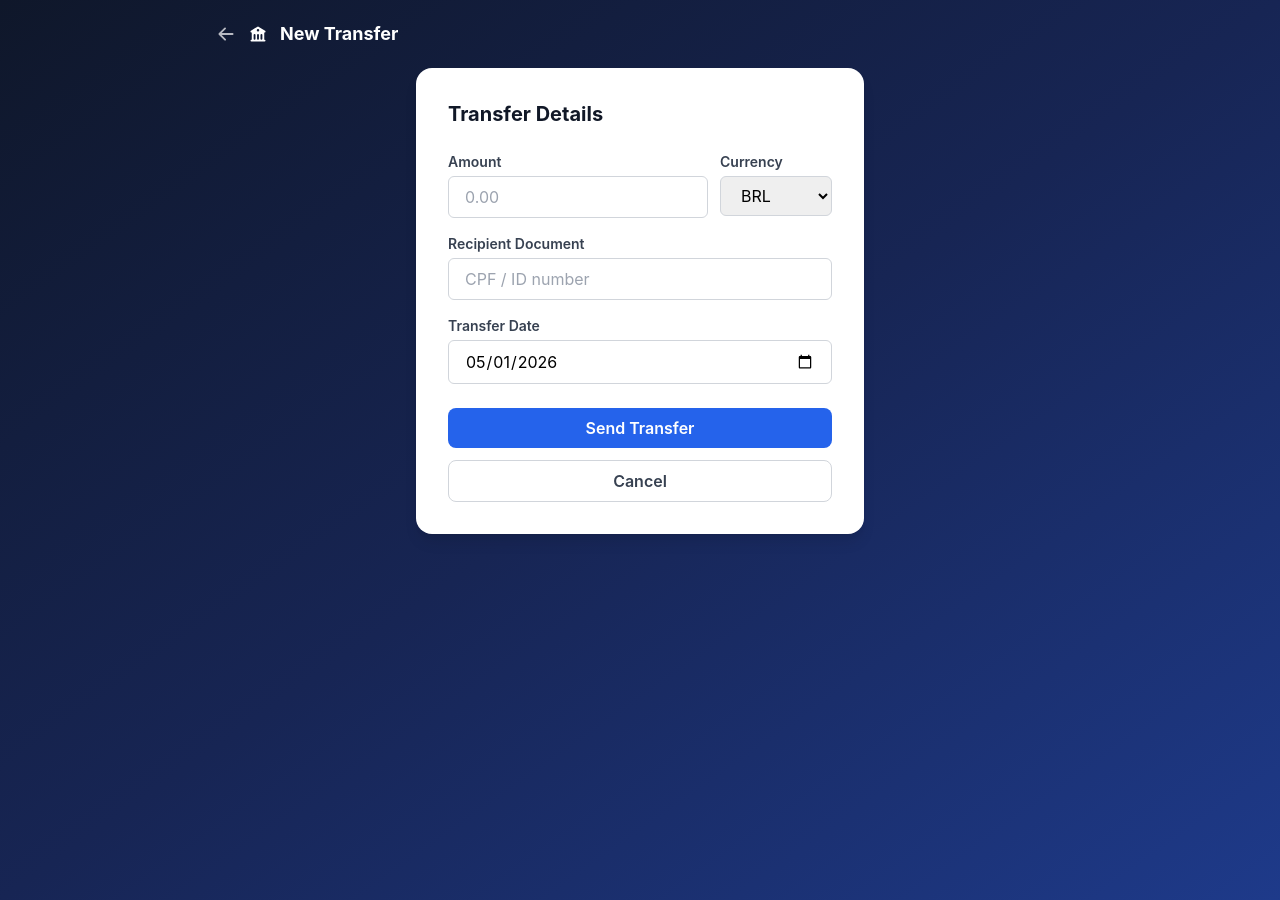
it: NewTransferPage › shows validation error when document is empty
Type "100" into the number field labelled "Amount" at (578, 197), box top-left (448, 176), bottom-right (708, 218)
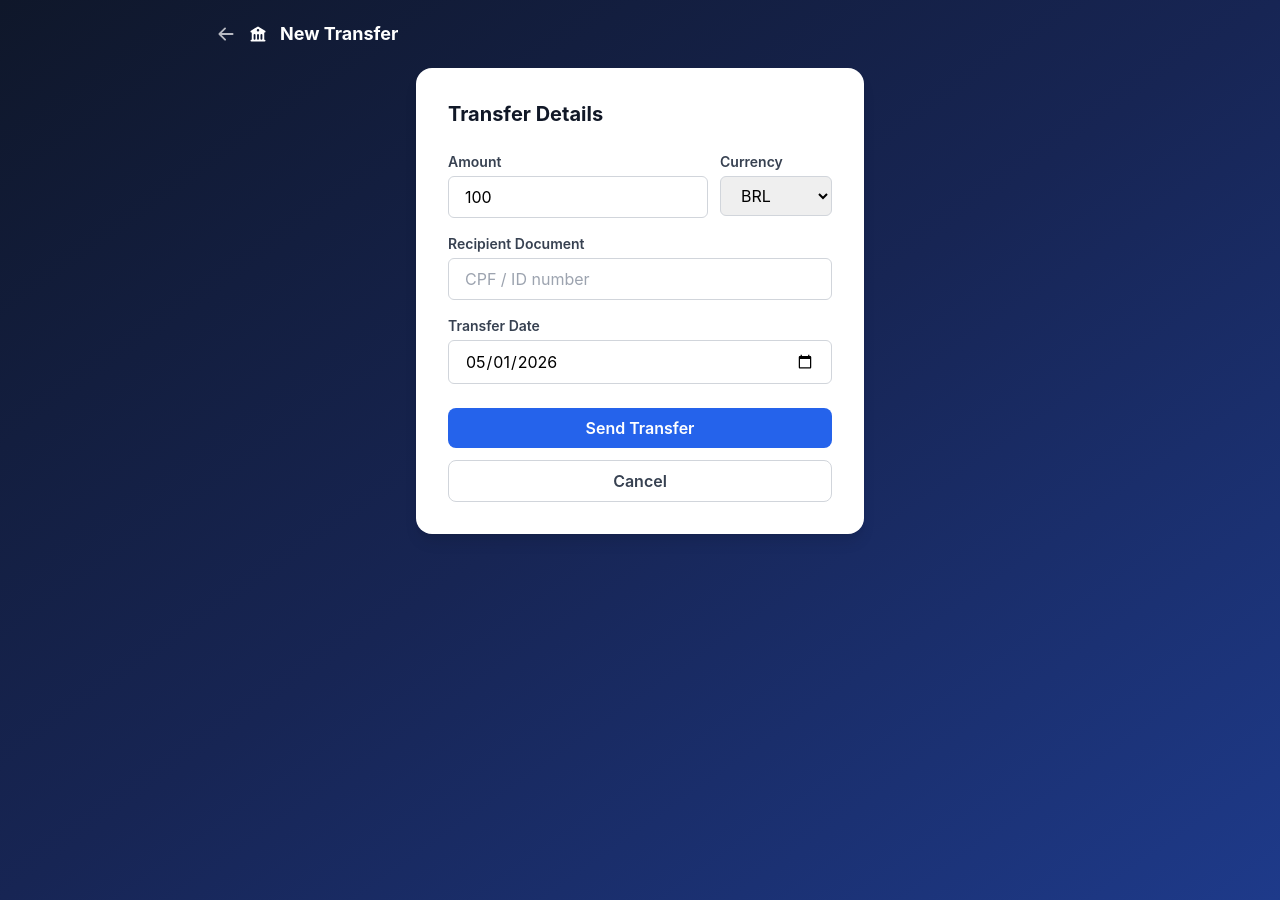
Click the button "Send Transfer" at (640, 428), box top-left (448, 408), bottom-right (832, 448)
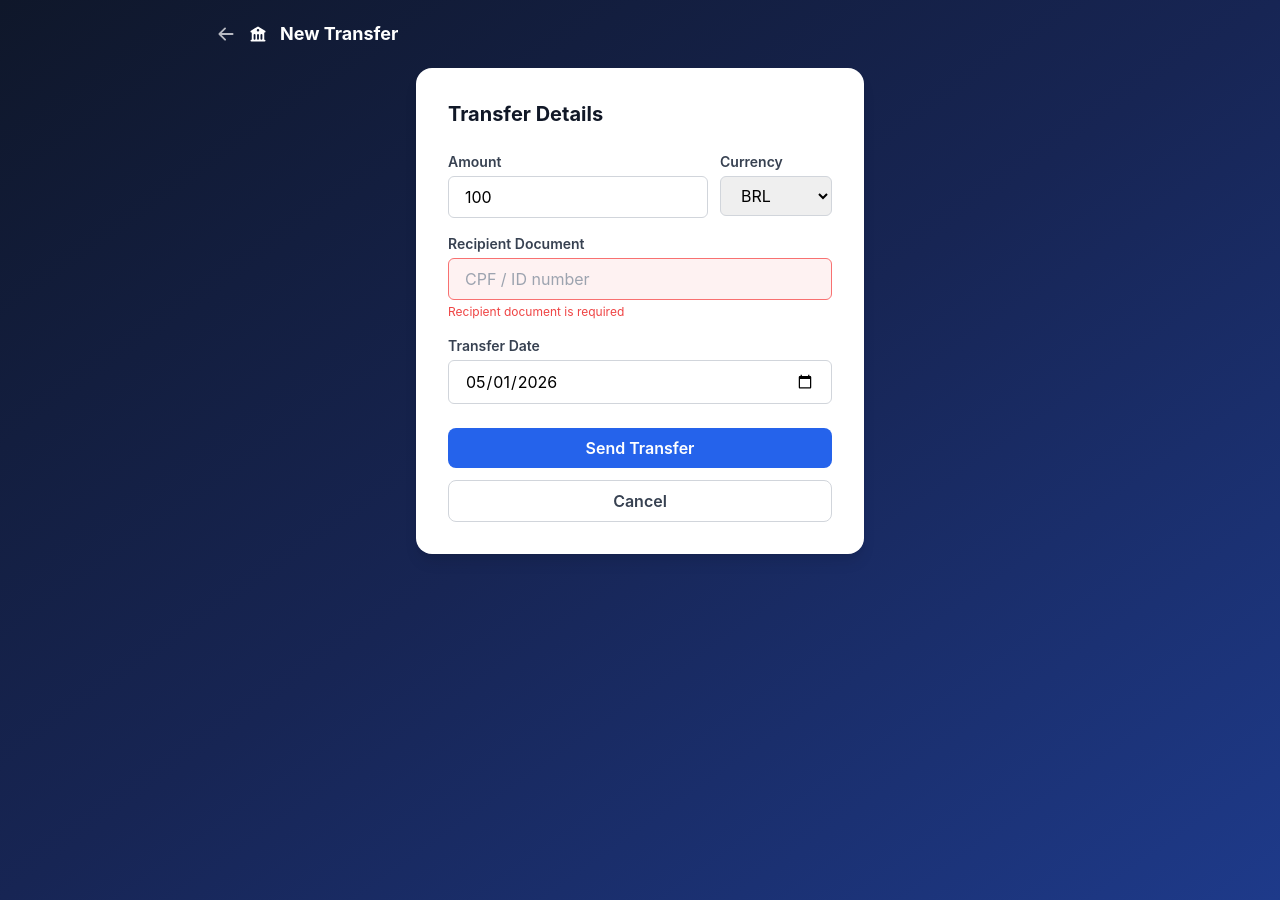
Check: the text "Recipient document is required" is shown, box top-left (448, 304), bottom-right (624, 319)
